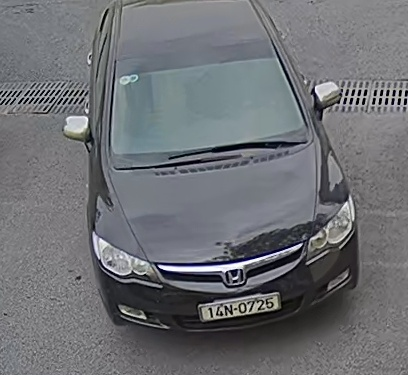vehicle plate: (196, 290, 280, 321)
